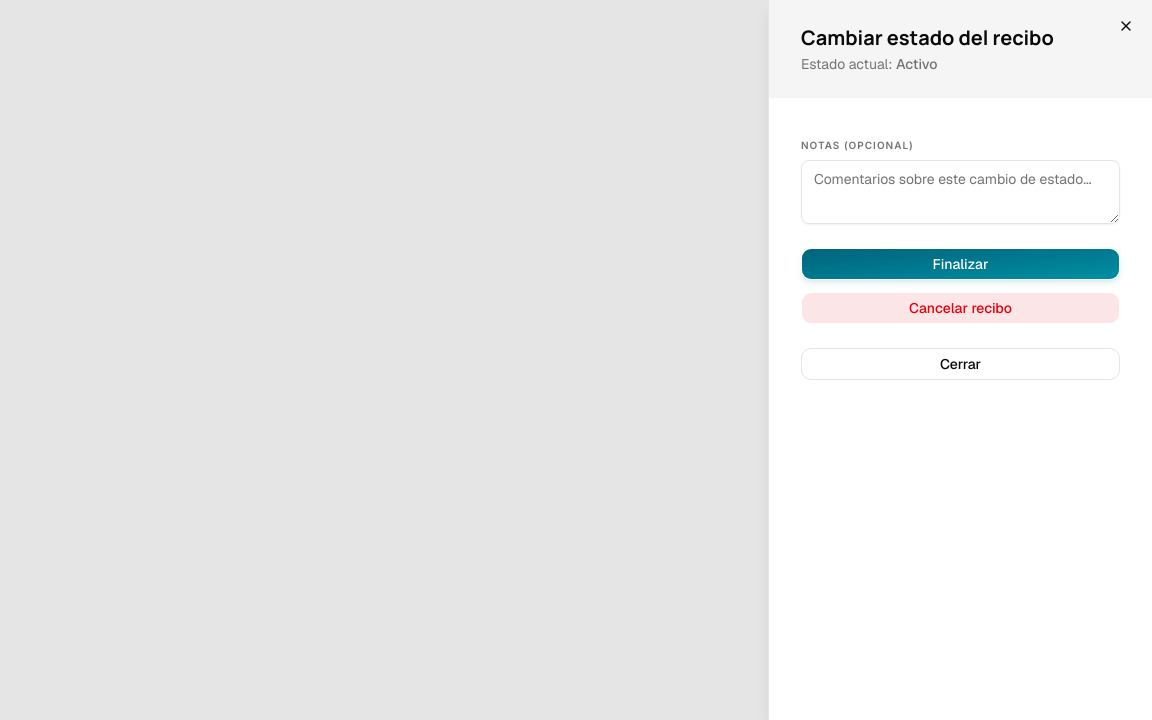
Scenario: ReceiptStatusTransitionDrawer › shows error message when transition fails
The width and height of the screenshot is (1152, 720).
Click the button "Finalizar": (960, 264) x1=801 y1=248 x2=1120 y2=280
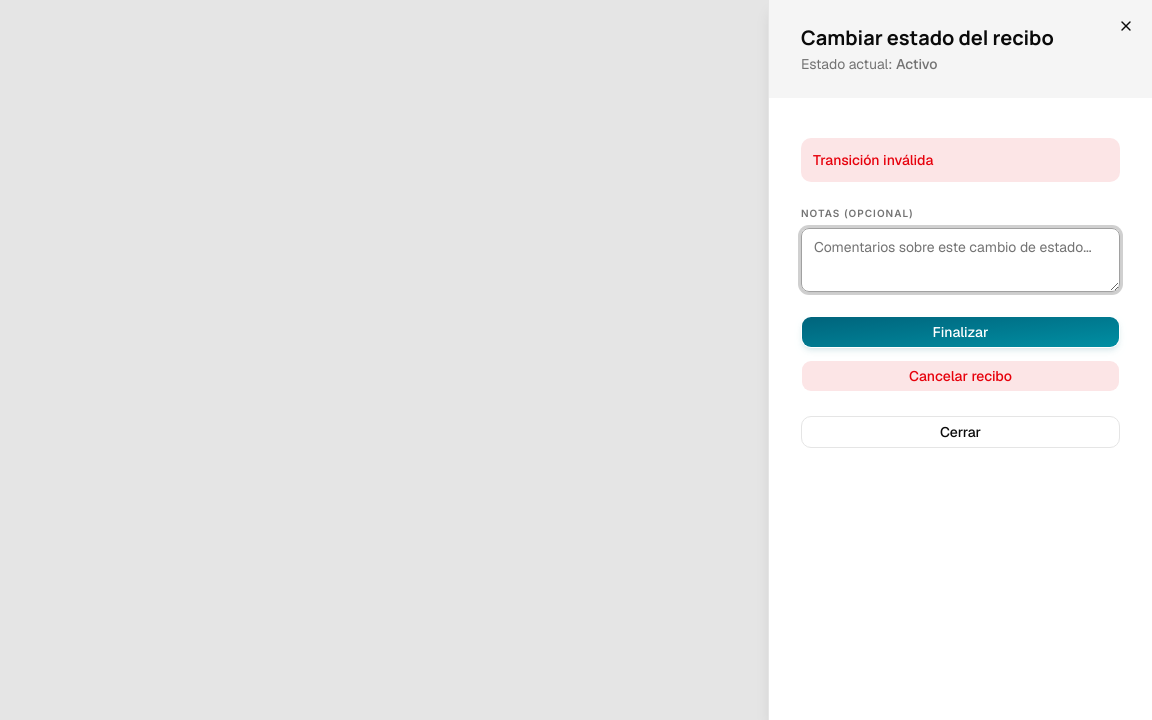
Result: the text "Transición inválida" is shown at x1=813 y1=151 x2=933 y2=169
